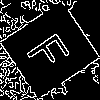F: (25, 25, 79, 76)
